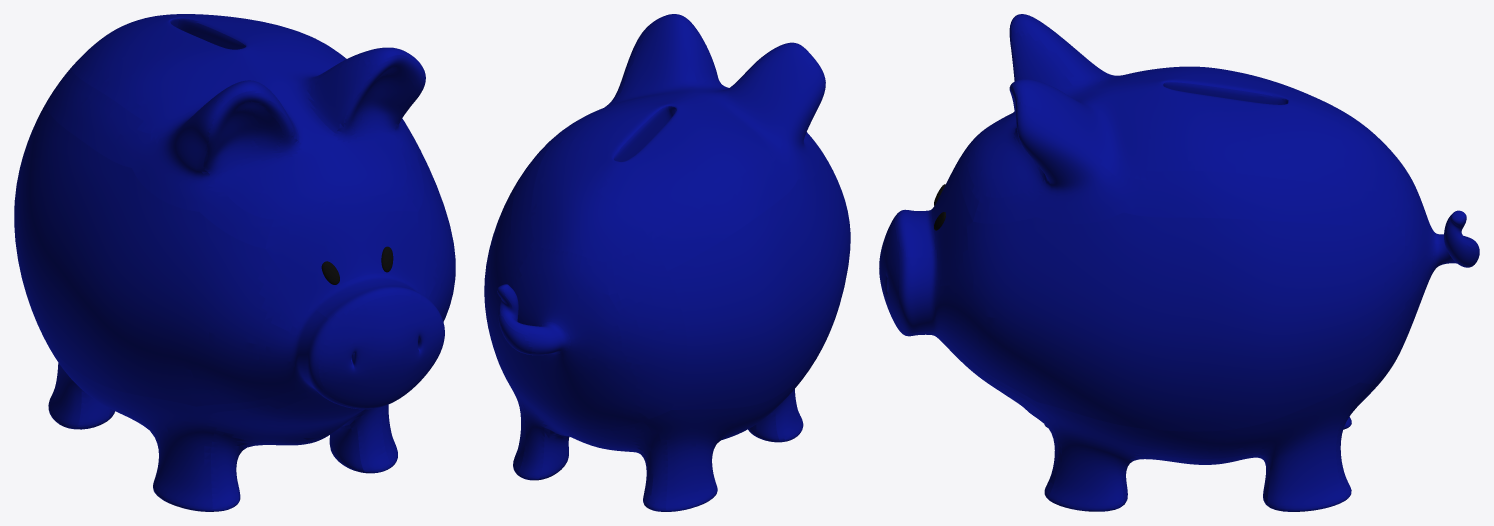
File: sut den.FBX
3 views of the same model, side by side, from view 1: azimuth 30°, elevation 25°; view 2: azimuth 150°, elevation 25°; view 3: azimuth 270°, elevation 25° (orthographic). The views are drawn at different scales.
Visible parts, largest first — view 1: Pigggy_Ban; view 2: Pigggy_Ban; view 3: Pigggy_Ban.
Boxes of the visible parts, box(x1,y1,x2,y2) form: Pigggy_Ban: box(14, 14, 455, 511); Pigggy_Ban: box(484, 14, 850, 511); Pigggy_Ban: box(879, 14, 1479, 511).
Bounding box in the file's own units: 5.64 × 6.78 × 8.94.
